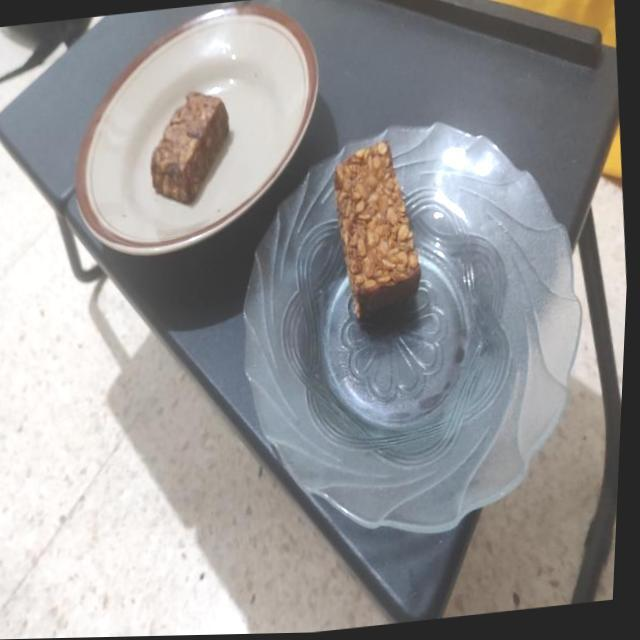tempe_goreng: (334, 140, 419, 318), (150, 92, 228, 203)
